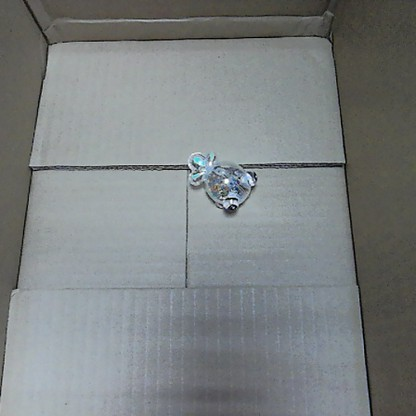whitefish: (179, 144, 259, 217)
